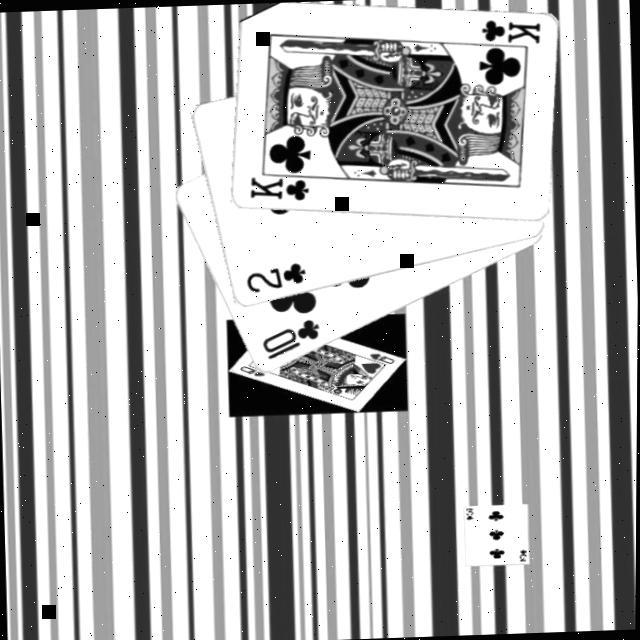10C: (258, 316, 324, 364)
2C: (243, 260, 309, 297)
KC: (469, 15, 544, 56), (247, 168, 320, 205)
